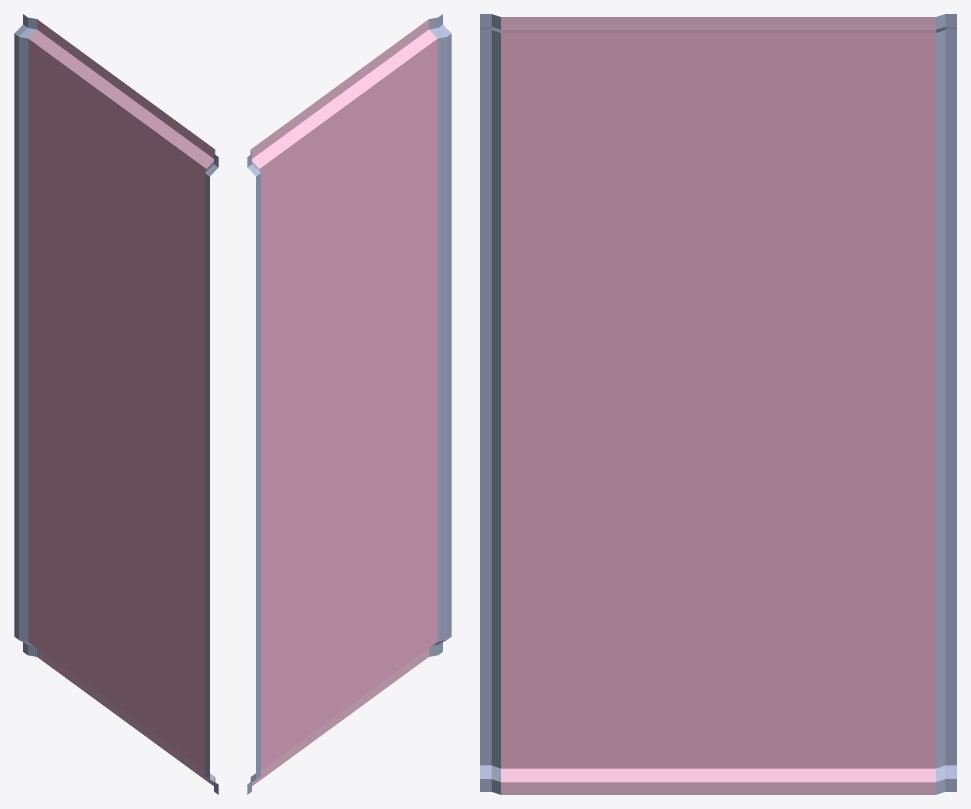
File: WallPanel_Joiner.fbx
3 renders of one model, left to right at view 1: azimuth 30°, elevation 25°; view 2: azimuth 150°, elevation 25°; view 3: azimuth 270°, elevation 25°, orthographic. The views are drawn at different scales.
Visible parts, largest first — view 1: WallPanel_Joining; view 2: WallPanel_Joining; view 3: WallPanel_Joining.
Part boxes in pixels (x1,y1,x2,y2): WallPanel_Joining: [14, 14, 218, 794]; WallPanel_Joining: [247, 14, 451, 794]; WallPanel_Joining: [480, 14, 956, 794].
Size of the model in its own units: 8.29 by 360 by 200.
1 material, 1 textured.
